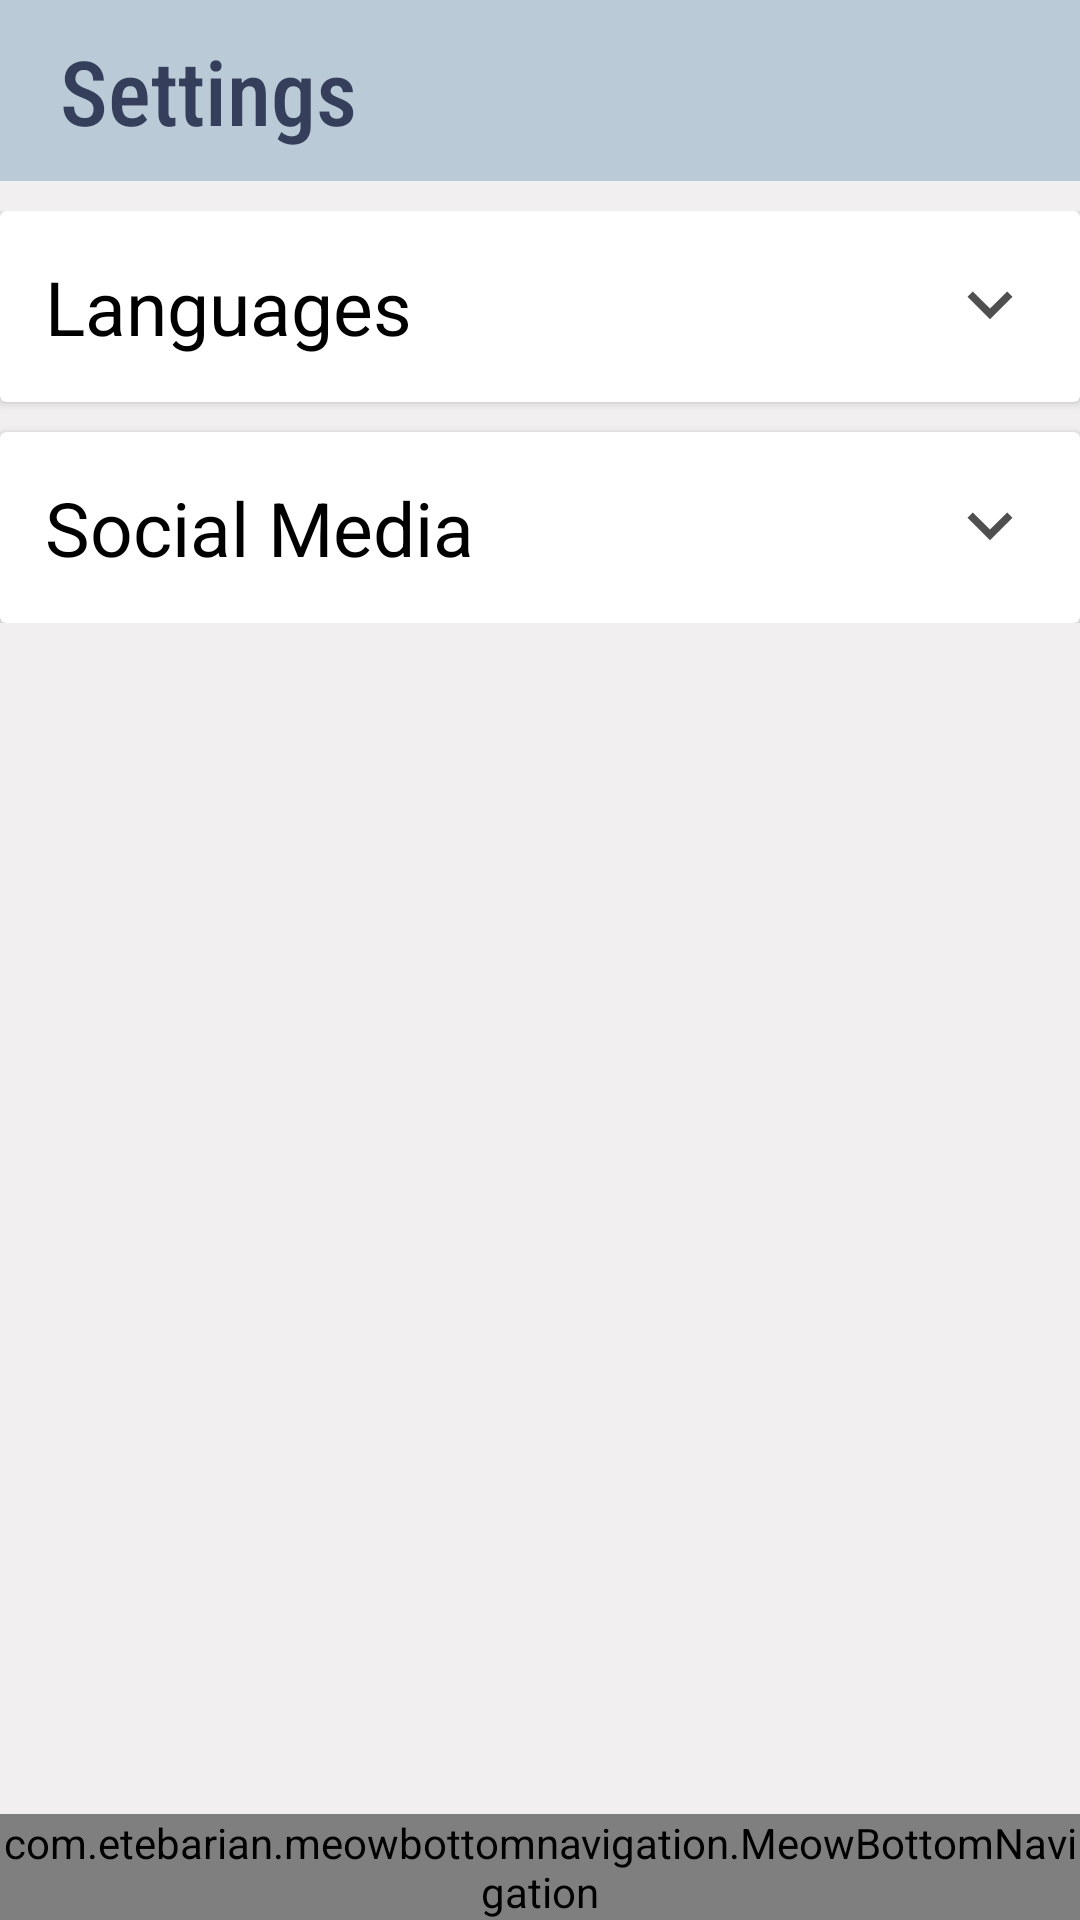

Screen size 1080x1920. Icon name, then its center in pixels as (x,y):
arrow down: (990,305), (990,526)
